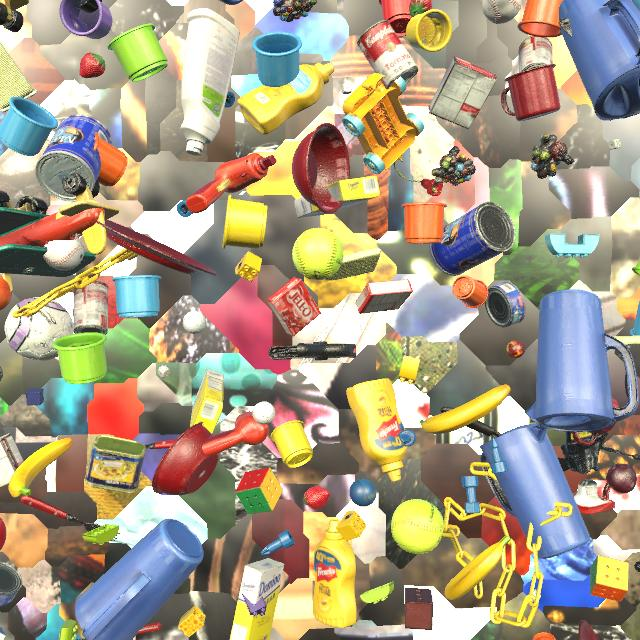ycb_002_master_chef_can: (35, 114, 112, 202), (429, 202, 516, 276)
ycb_004_sugar_box: (230, 558, 284, 640), (294, 176, 380, 218), (190, 369, 224, 434)
ycb_005_tomato_soup_can: (357, 20, 418, 90), (73, 280, 108, 335), (518, 36, 554, 72)
ycb_006_mustard_bottle: (237, 63, 334, 135), (346, 378, 407, 482), (313, 519, 357, 628)
ycb_007_tuna_fish_can: (485, 281, 526, 327), (0, 561, 23, 607)
ycb_008_pudding_box: (428, 56, 497, 129), (0, 433, 24, 488)
ycb_009_gelatin_box: (267, 276, 321, 336), (355, 279, 413, 314)
ycb_010_potted_meat_can: (84, 435, 146, 493)
ycb_011_banana: (420, 385, 511, 434), (445, 535, 510, 601), (8, 438, 73, 498)
ycb_012_strawberry: (303, 486, 330, 510), (80, 53, 105, 78), (409, 0, 432, 17)
ycb_013_apple: (0, 518, 6, 550)
ycb_017_orange: (0, 276, 12, 311)
ycb_018_plum: (606, 463, 637, 493)
